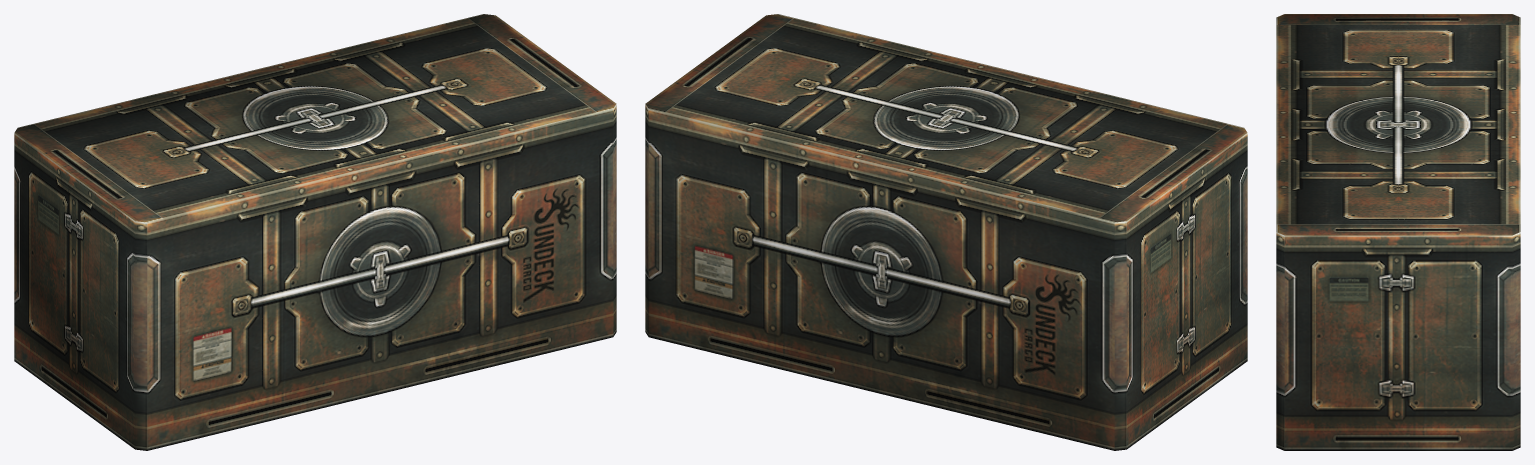
File: mprw_crate_01.FBX
3 views of the same model, side by side, from view 1: azimuth 30°, elevation 25°; view 2: azimuth 150°, elevation 25°; view 3: azimuth 270°, elevation 25° (orthographic). The views are drawn at different scales.
Parts seen in each view (by area): view 1: mprw_crate_01; view 2: mprw_crate_01; view 3: mprw_crate_01.
Part boxes in pixels (x1,y1,x2,y2): mprw_crate_01: [14, 14, 616, 450]; mprw_crate_01: [645, 14, 1247, 450]; mprw_crate_01: [1276, 14, 1520, 450].
Size of the model in its own units: 293 by 133 by 137.
1 material, 1 textured.
